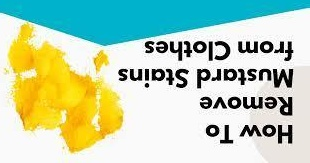mustard: (12, 84, 127, 143), (9, 56, 92, 92), (59, 111, 98, 156), (9, 21, 34, 63), (29, 43, 62, 64), (91, 51, 111, 75)
